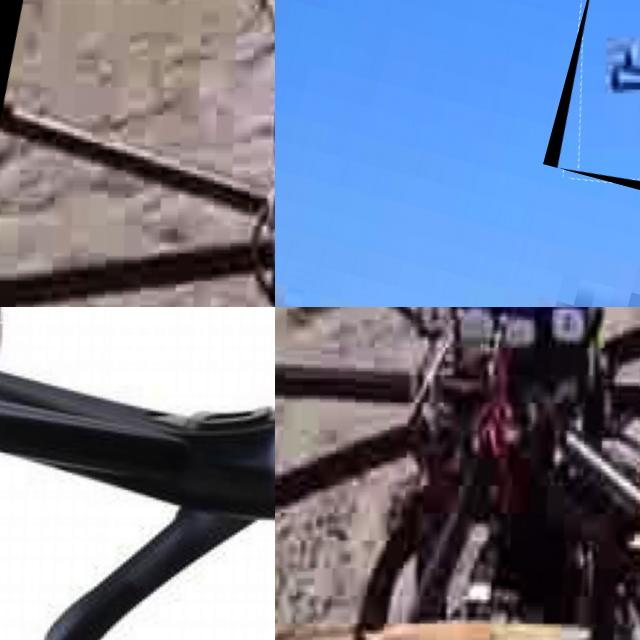0: (275, 307, 640, 640), (0, 0, 275, 307), (542, 0, 640, 213)
drone: (0, 307, 275, 640)
